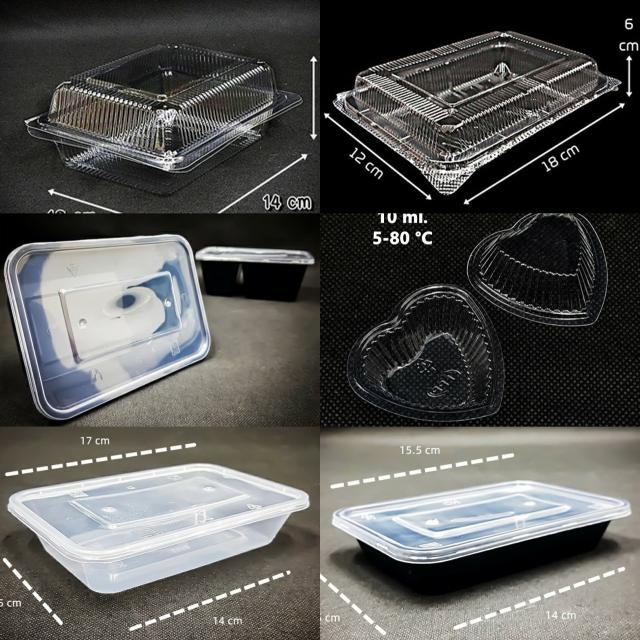Single-Use-Plastic: (334, 31, 620, 194), (25, 45, 301, 194), (8, 464, 309, 594), (5, 235, 210, 420), (332, 480, 630, 593), (347, 285, 504, 421), (468, 214, 607, 326)
